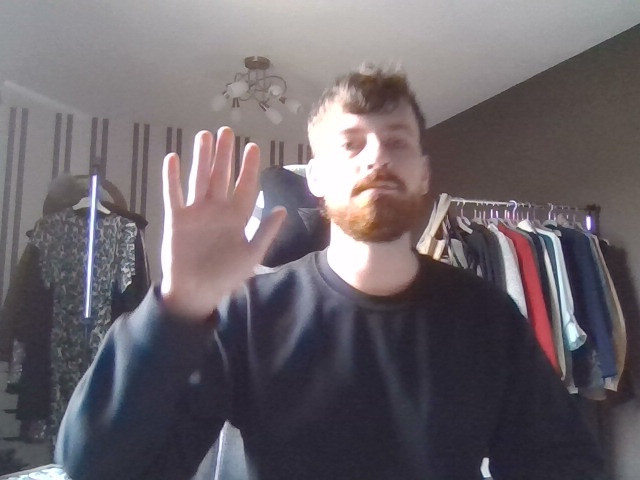Hello: (153, 117, 296, 318)
